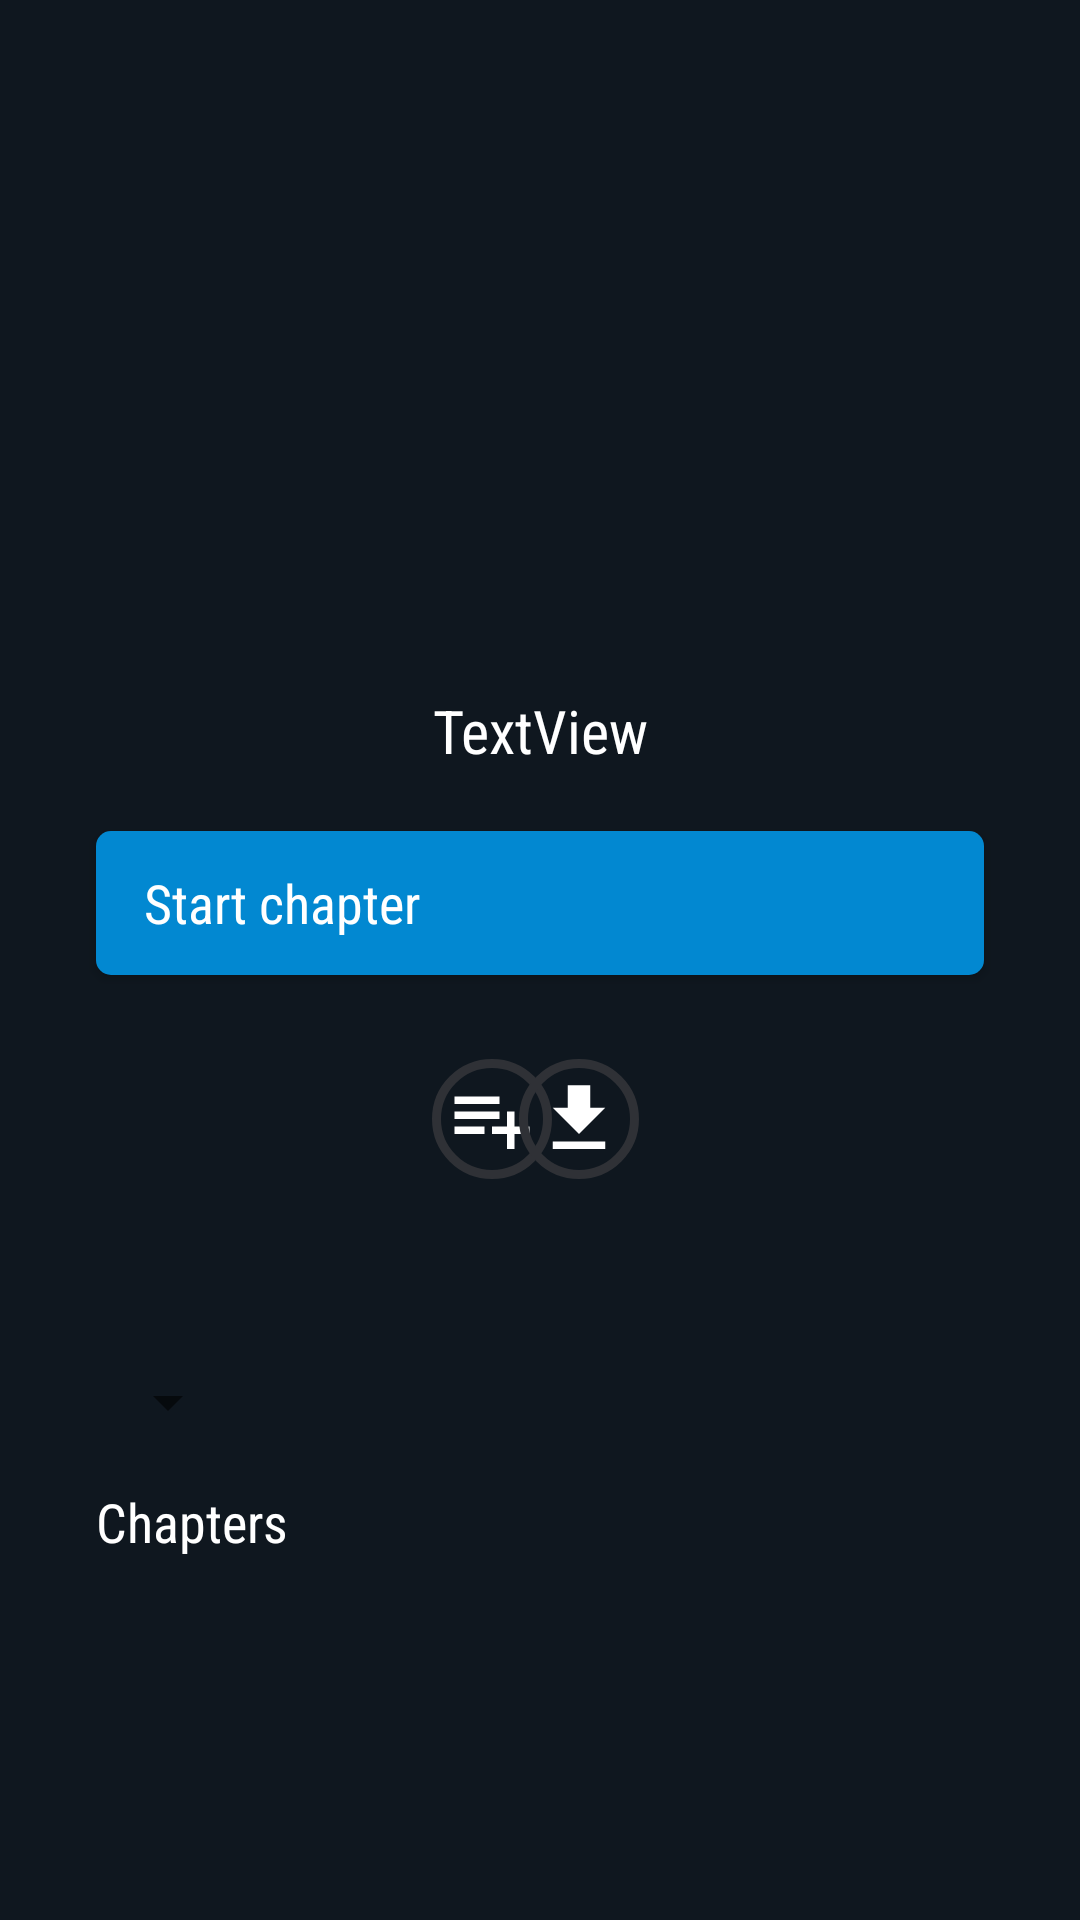

Named icons in this screenshot (1080*1920) and their bounding boxes, (x1, y1, x2, y2):
addlist: (432, 1059, 552, 1179)
download: (519, 1059, 639, 1179)
